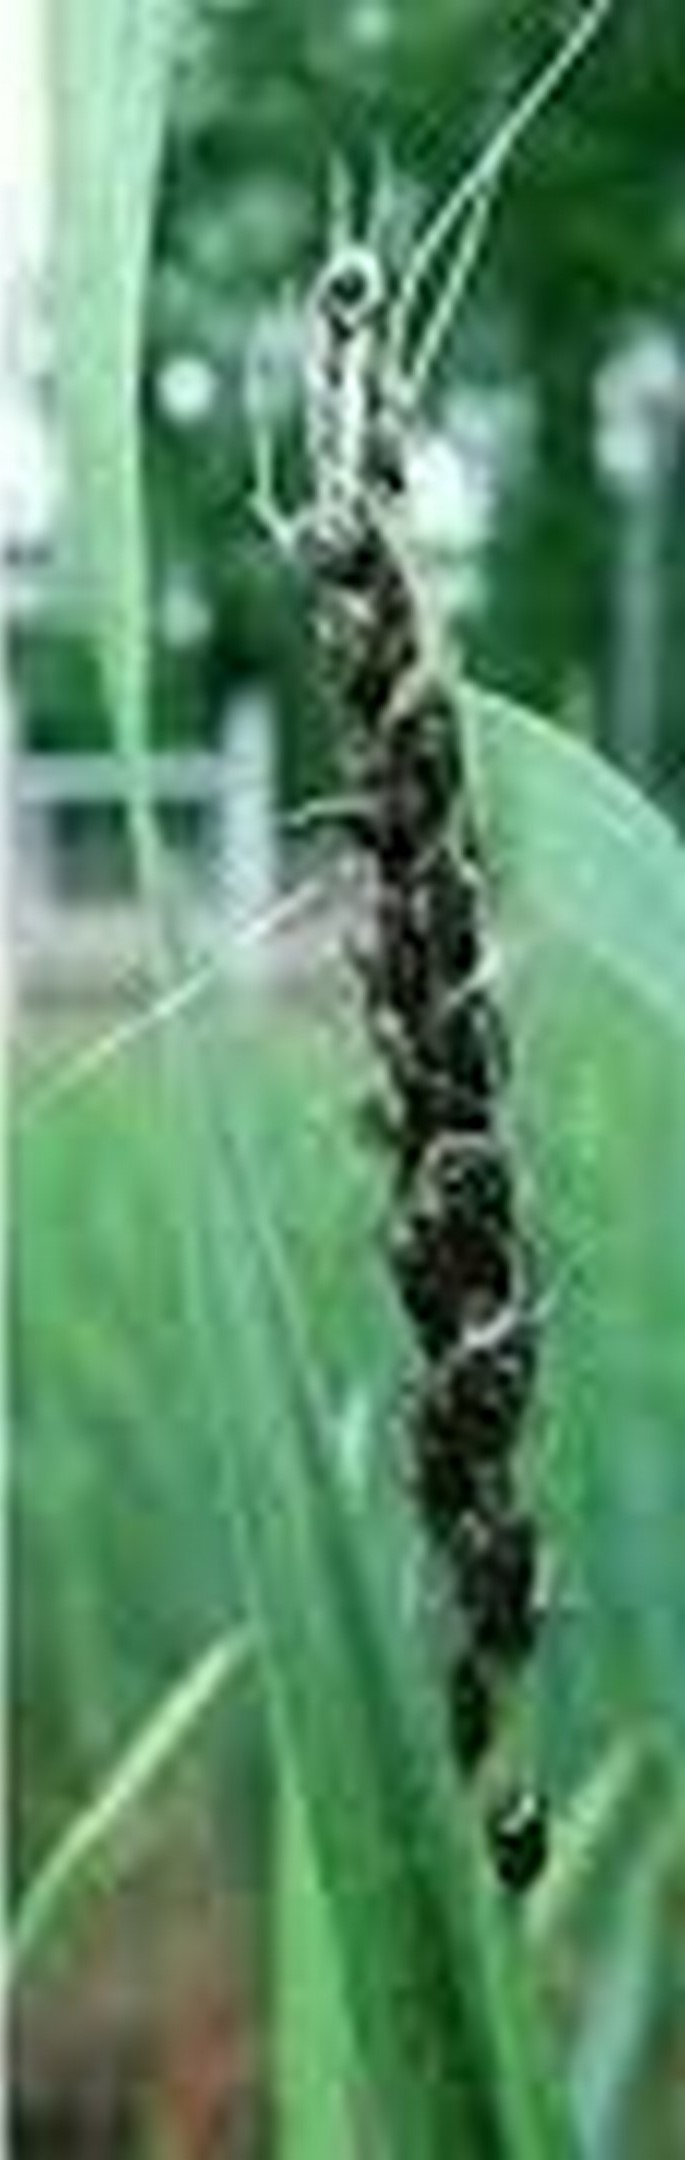Wheat Loose Smut: (273, 456, 590, 1716)
